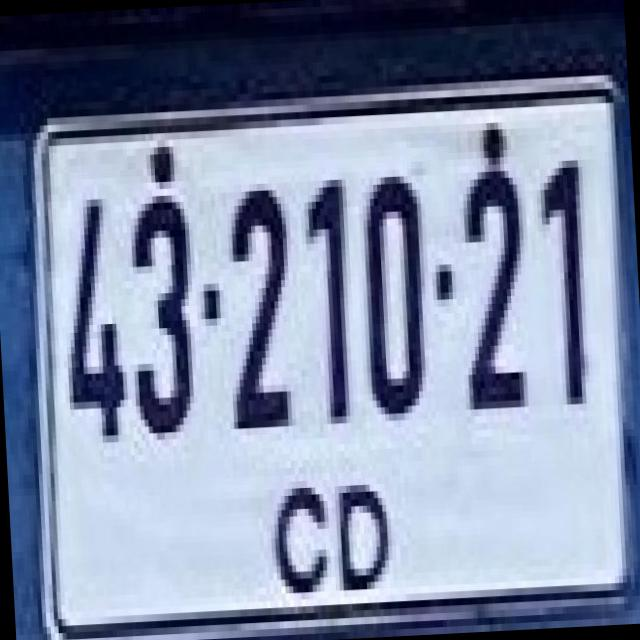0: (349, 154, 435, 415)
1: (283, 158, 362, 419), (523, 146, 598, 407)
2: (209, 161, 300, 423), (449, 149, 532, 403)
3: (112, 173, 200, 428)
4: (46, 170, 130, 438)
5: (256, 466, 332, 594)
D: (318, 469, 394, 585)
